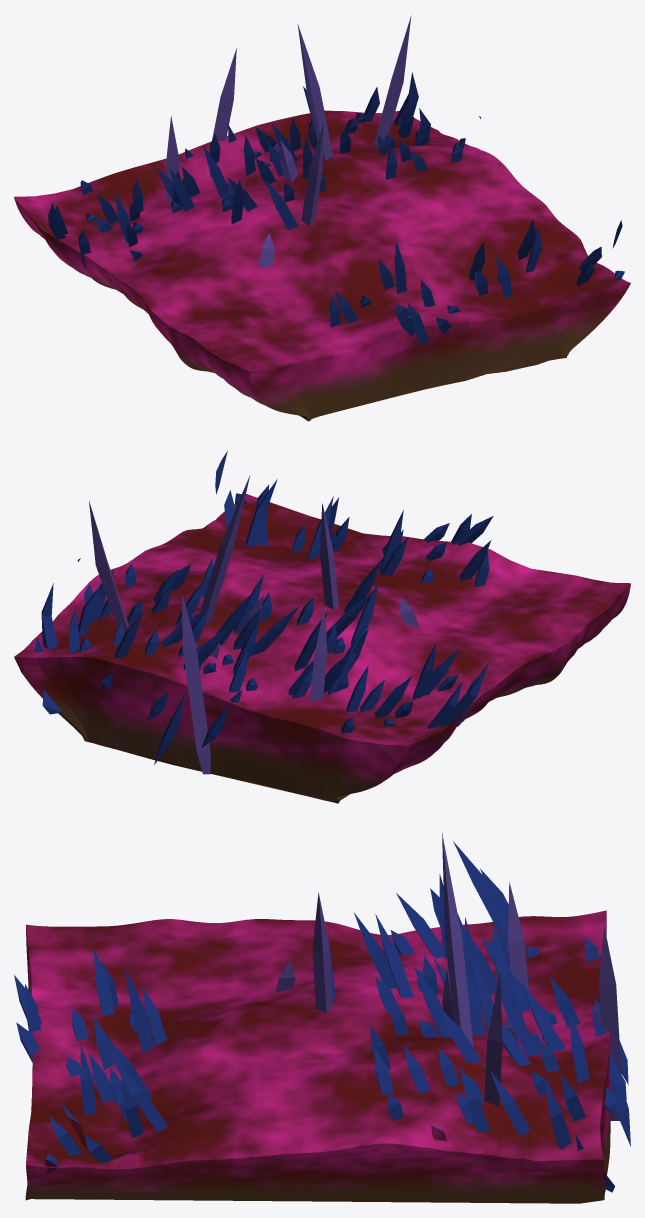
The model's file is lower_short_float.fbx.
3 renders of one model, top to bottom at view 1: azimuth 30°, elevation 25°; view 2: azimuth 150°, elevation 25°; view 3: azimuth 270°, elevation 25°, orthographic. The views are drawn at different scales.
Parts seen in each view (by area): view 1: lower_left.001; view 2: lower_left.001; view 3: lower_left.001.
Part boxes in pixels (x1=…): lower_left.001: x1=14, y1=15, x2=630, y2=421; lower_left.001: x1=14, y1=451, x2=630, y2=803; lower_left.001: x1=14, y1=833, x2=630, y2=1203.
Size of the model in its own units: 634 by 351 by 641.
